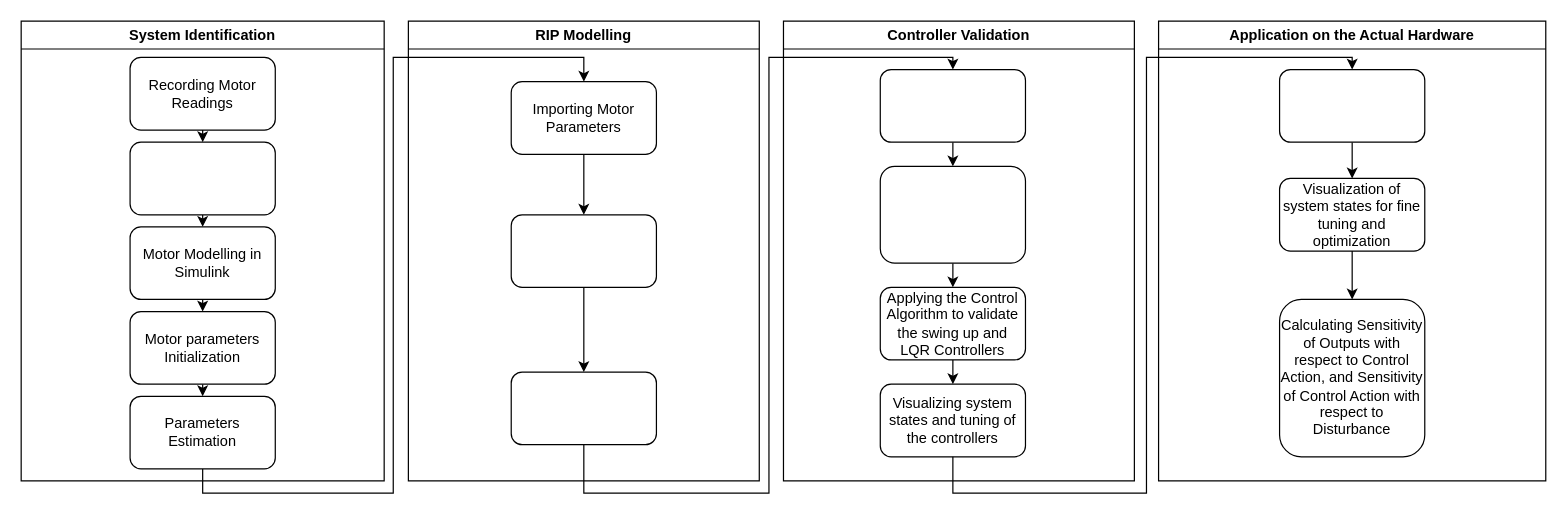
Image size: 1567x524. Some labels were removed from this diagram. Here are the shapes that lost their labels. From the top down, the centre of each, then its label:
[952,105]: Importing Simscape model for the actual hardware
[1351,105]: Controlling and tuning of controllers through the Interactive GUI
[202,178]: Logging Readings into MATLAB
[952,214]: Mimicking the hardware dynamics using Simulink's different libraries and block
[583,250]: Importing Actual Hardware parameters
[583,408]: Representing the system dynamics in state space form
